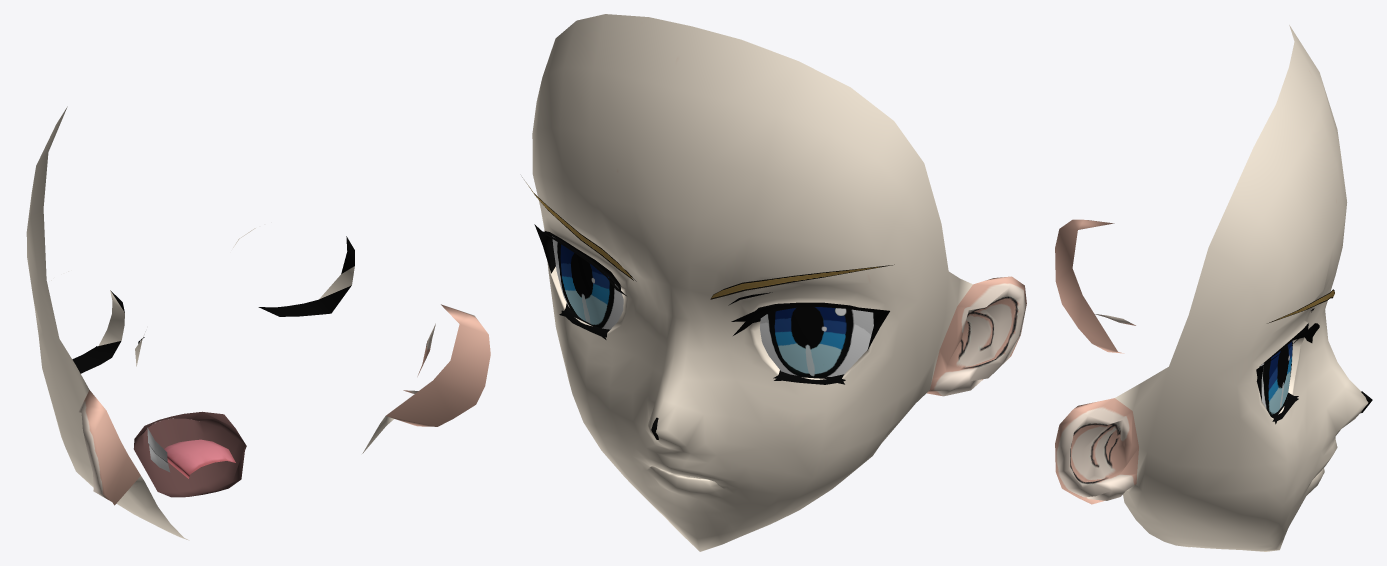
Rendered from eriri_face.gltf.
The picture shows the model from 3 angles, left to right: view 1: azimuth 30°, elevation 25°; view 2: azimuth 150°, elevation 25°; view 3: azimuth 270°, elevation 25°; orthographic projection. The views are drawn at different scales.
Visible parts, largest first — view 1: F010_Saber_Face; view 2: F010_Saber_Face; view 3: F010_Saber_Face.
Part boxes in pixels (x1,y1,x2,y2): F010_Saber_Face: (26,106,490,540); F010_Saber_Face: (522,14,1026,551); F010_Saber_Face: (1055,25,1372,551).
Size of the model in its own units: 0.1517 by 0.1796 by 0.1014.
